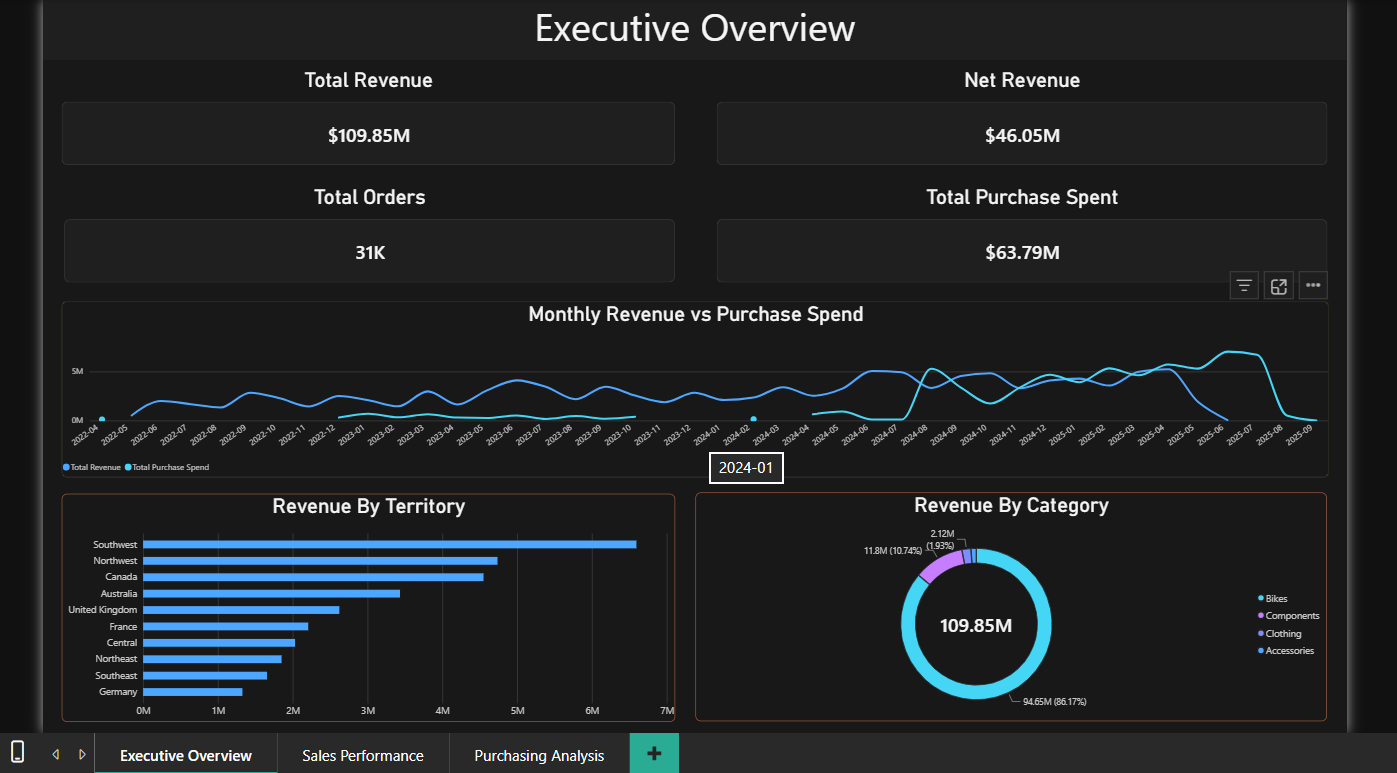

Layout of this report page (visuals, bound fields, positions):
{"tool":"powerbi","page":{"name":"Executive Overview","canvas":[1920,1080],"ordinal":0},"visuals":[{"type":"textbox","box":[0,0,1919.3,88],"z":0},{"type":"cardVisual","title":"Total Revenue","fields":{"Data":["FACT_SALES.Total Revenue"]},"box":[28,100,903.6,143.9],"z":1},{"type":"cardVisual","title":"Net Revenue","fields":{"Data":["FACT_SALES.Net Revenue"]},"box":[991.6,100,899.6,143.9],"z":2},{"type":"cardVisual","title":"Total Purchase Spent","fields":{"Data":["FACT_PURCHASES.Total Purchase Spend"]},"box":[991.6,271.9,899.6,143.9],"z":3},{"type":"cardVisual","title":"Total Orders","fields":{"Data":["FACT_SALES.Total Orders"]},"box":[32,271.9,899.6,143.9],"z":4},{"type":"lineChart","title":"Monthly Revenue vs Purchase Spend","fields":{"Category":["DIM_DATE.year_month"],"Y":["FACT_SALES.Total Revenue","FACT_PURCHASES.Total Purchase Spend"]},"box":[27,444.3,1865.9,258.8],"z":5},{"type":"donutChart","title":"Revenue By Category","fields":{"Category":["DIM_PRODUCT.categoryname"],"Y":["FACT_SALES.Total Revenue"]},"box":[960,725.9,929.6,337.2],"z":6},{"type":"clusteredBarChart","title":"Revenue By Territory","fields":{"Category":["DIM_TERRITORY.territoryname"],"Y":["FACT_SALES.Total Revenue"]},"box":[28.5,726.4,903,336.1],"z":7}]}

Visuals, with their boxes on the page's 1920x1080 design canvas (x1, y1, x2, y2). These are canvas units, not pixel positions in the 1397x773 screenshot, which may show the page scaled, cropped or inside an application window:
textbox: {"left": 0, "top": 0, "right": 1919, "bottom": 88}
"Total Revenue" cardVisual: {"left": 28, "top": 100, "right": 932, "bottom": 244}
"Net Revenue" cardVisual: {"left": 992, "top": 100, "right": 1891, "bottom": 244}
"Total Purchase Spent" cardVisual: {"left": 992, "top": 272, "right": 1891, "bottom": 416}
"Total Orders" cardVisual: {"left": 32, "top": 272, "right": 932, "bottom": 416}
"Monthly Revenue vs Purchase Spend" lineChart: {"left": 27, "top": 444, "right": 1893, "bottom": 703}
"Revenue By Category" donutChart: {"left": 960, "top": 726, "right": 1890, "bottom": 1063}
"Revenue By Territory" clusteredBarChart: {"left": 28, "top": 726, "right": 932, "bottom": 1062}
